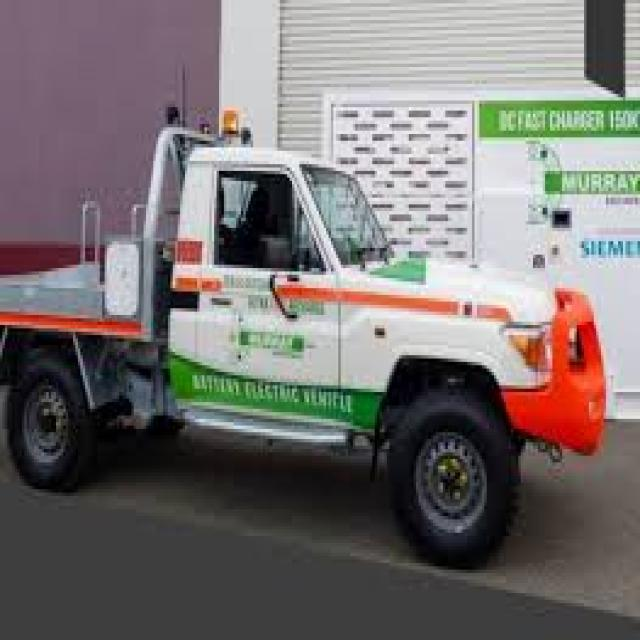light_vehicle: (5, 67, 611, 576)
